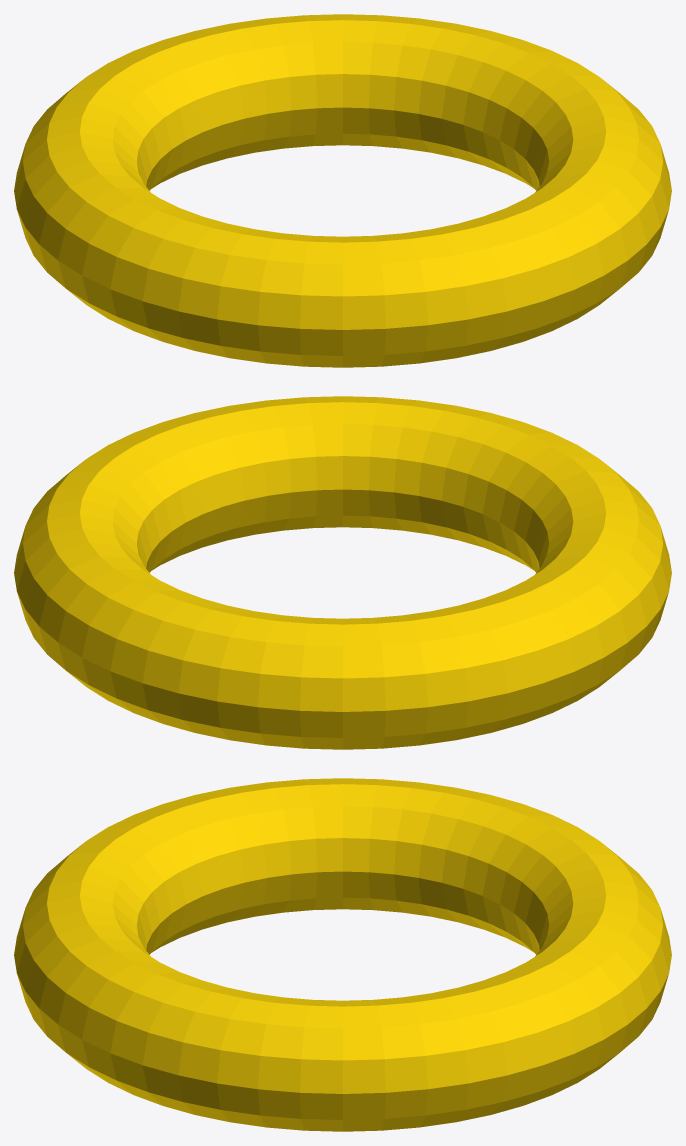
Rendered from ring.obj.
3 views of the same model, one above another, from view 1: azimuth 30°, elevation 25°; view 2: azimuth 150°, elevation 25°; view 3: azimuth 270°, elevation 25° (orthographic).
Size of the model in its own units: 2.5 by 0.5 by 2.5.
